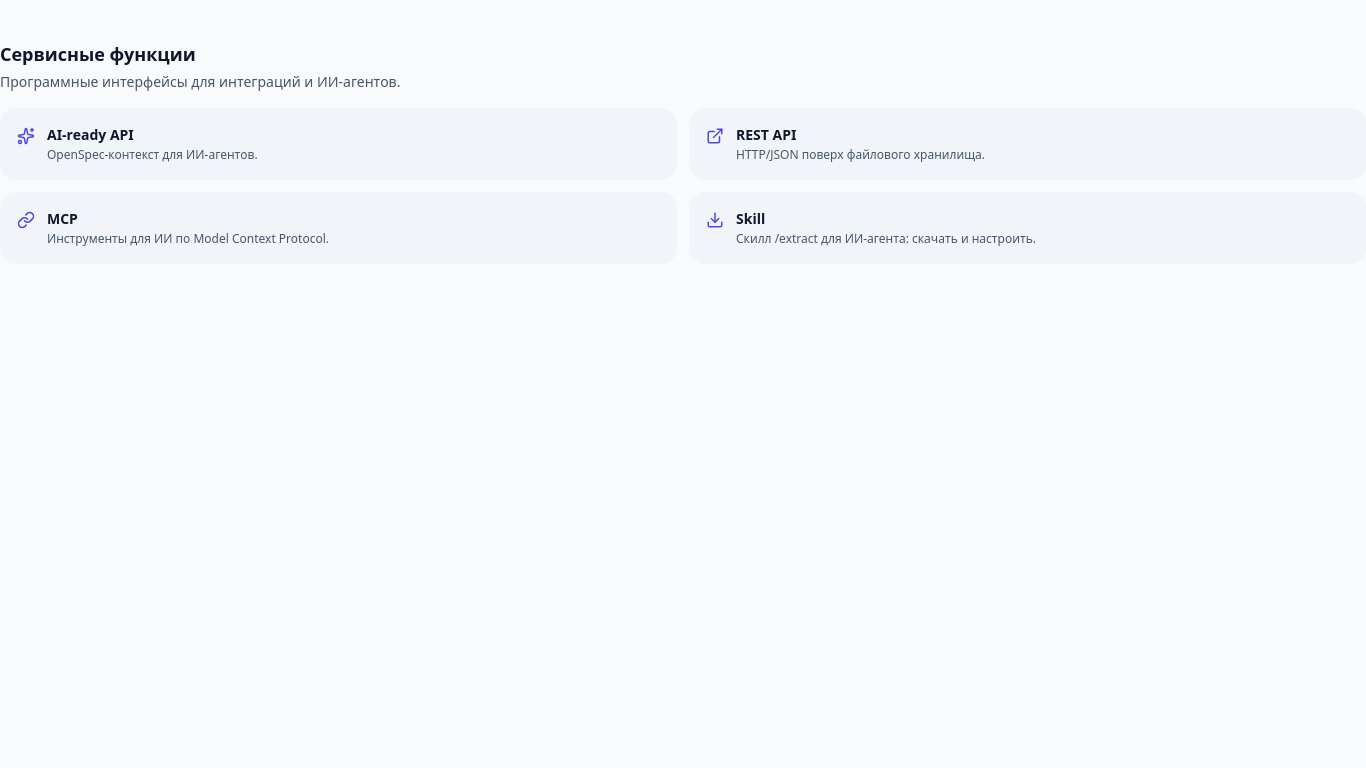
it: ServicesSection (E13 · revised — Start screen) › opens the MCP screen with the per-project workflow, tools and launch command
Click the button with test id "service-open-mcp" at x=62, y=218, box left=0, top=192, right=677, bottom=264
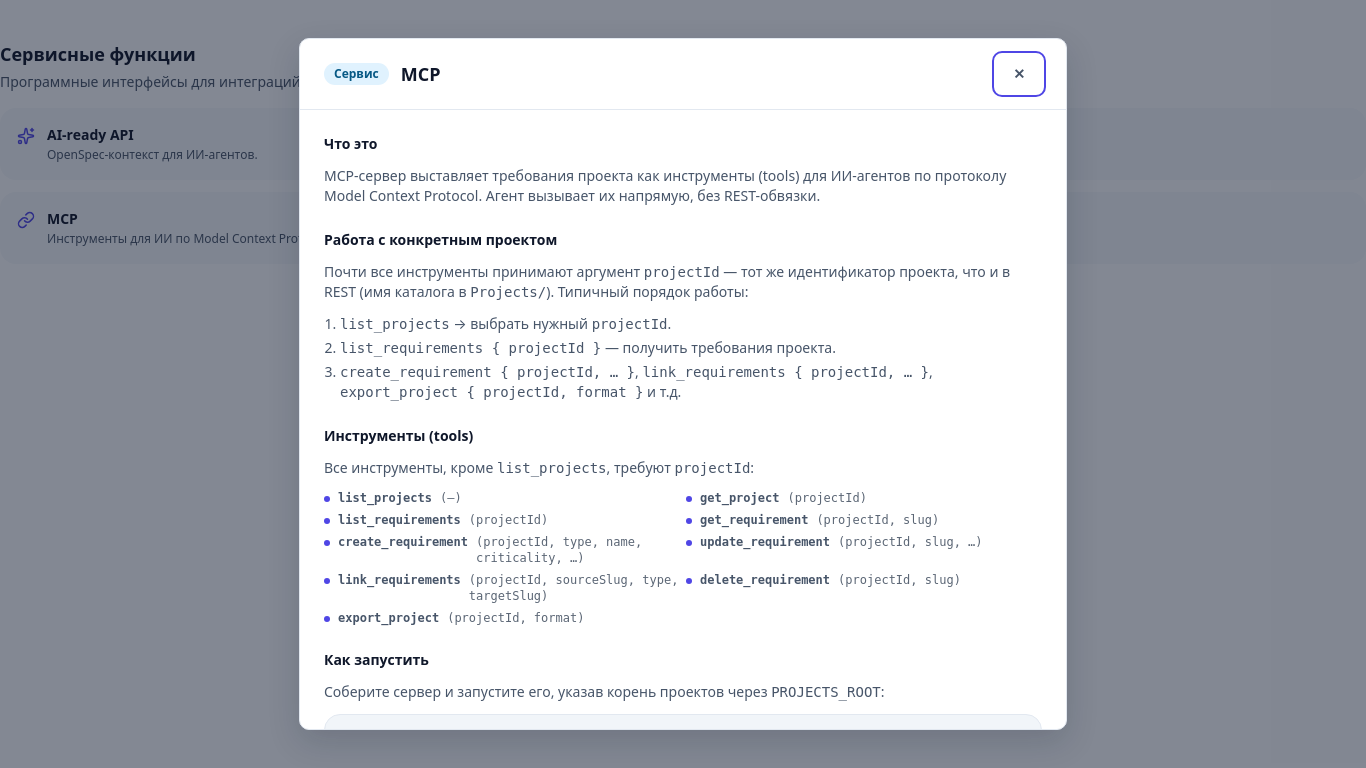
expect the heading with test id "service-screen-title" reads "MCP": met, box left=401, top=62, right=440, bottom=86
expect the dialog with test id "service-screen" shows "list_requirements": met, box left=338, top=513, right=461, bottom=527
expect the dialog with test id "service-screen" shows "projectId": met, box left=644, top=264, right=720, bottom=280
